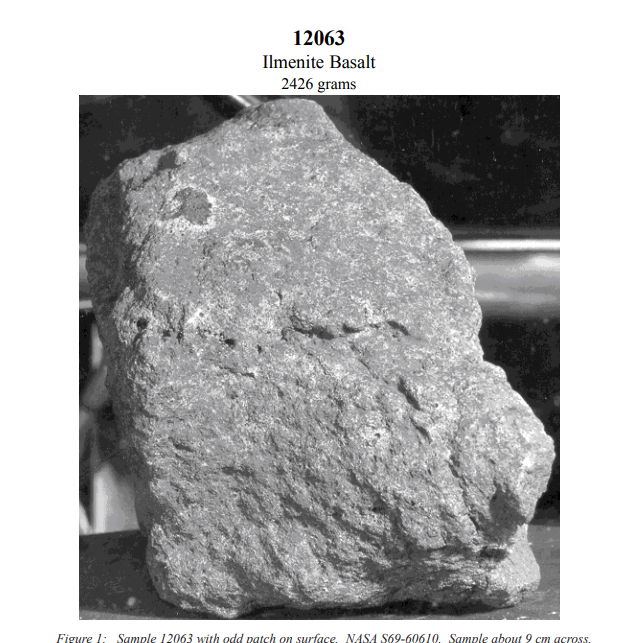Basalt: (78, 95, 559, 616)
